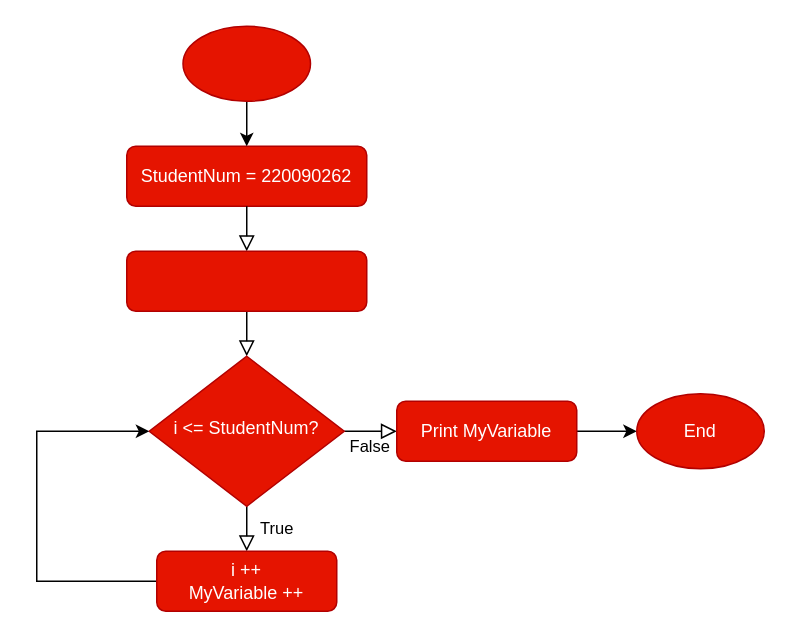
Image size: 791x638. Some labels were removed from this diagram. Here are the shapes that lost their labels. From the top down, the centre of each, then its label:
pixel 246 63: Start
pixel 246 280: MyVariable = 0 i = 0
